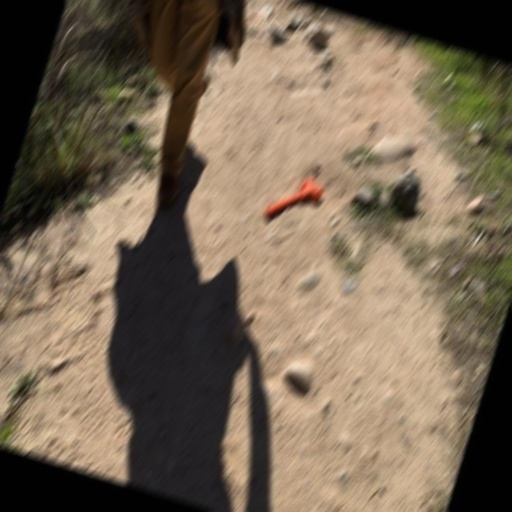mallet: (261, 165, 327, 233)
